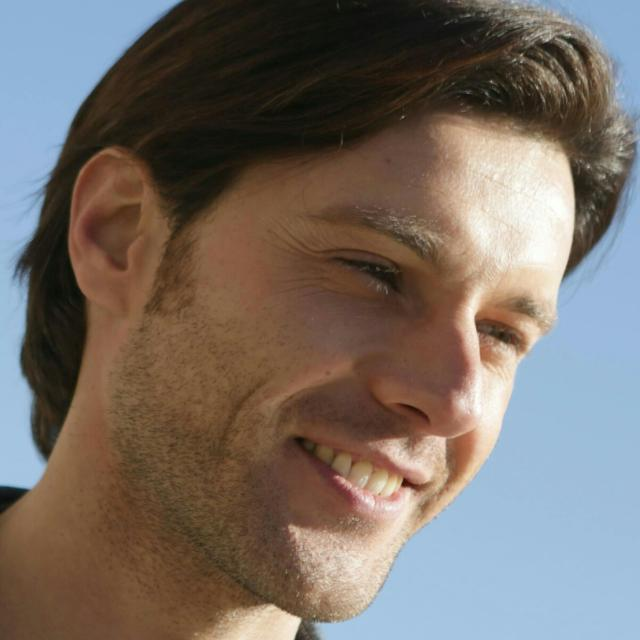front: (246, 183, 516, 559)
